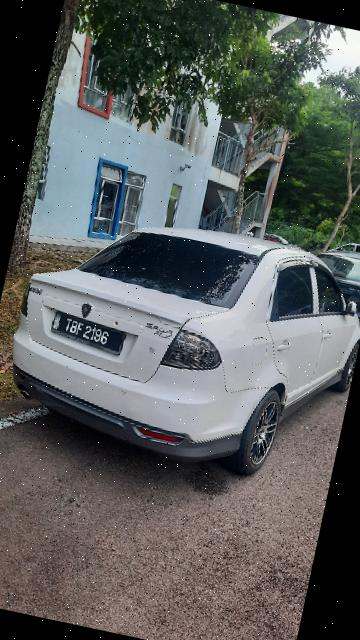License_Plate: (44, 308, 132, 360)
car: (1, 193, 360, 498)
